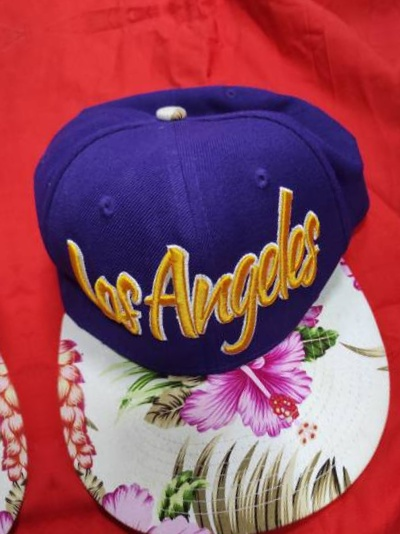Hat: (0, 34, 400, 534), (0, 100, 56, 534)
